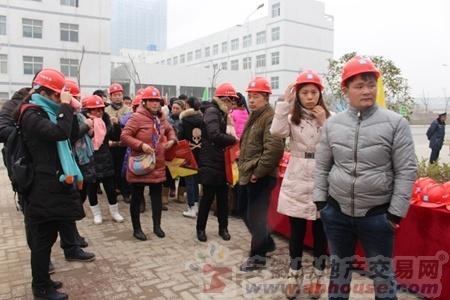helmet: (342, 56, 382, 88), (33, 69, 67, 95), (295, 71, 326, 93), (246, 77, 274, 95), (216, 83, 240, 99), (141, 87, 164, 102), (85, 96, 107, 111), (67, 81, 84, 98), (110, 84, 125, 95)
